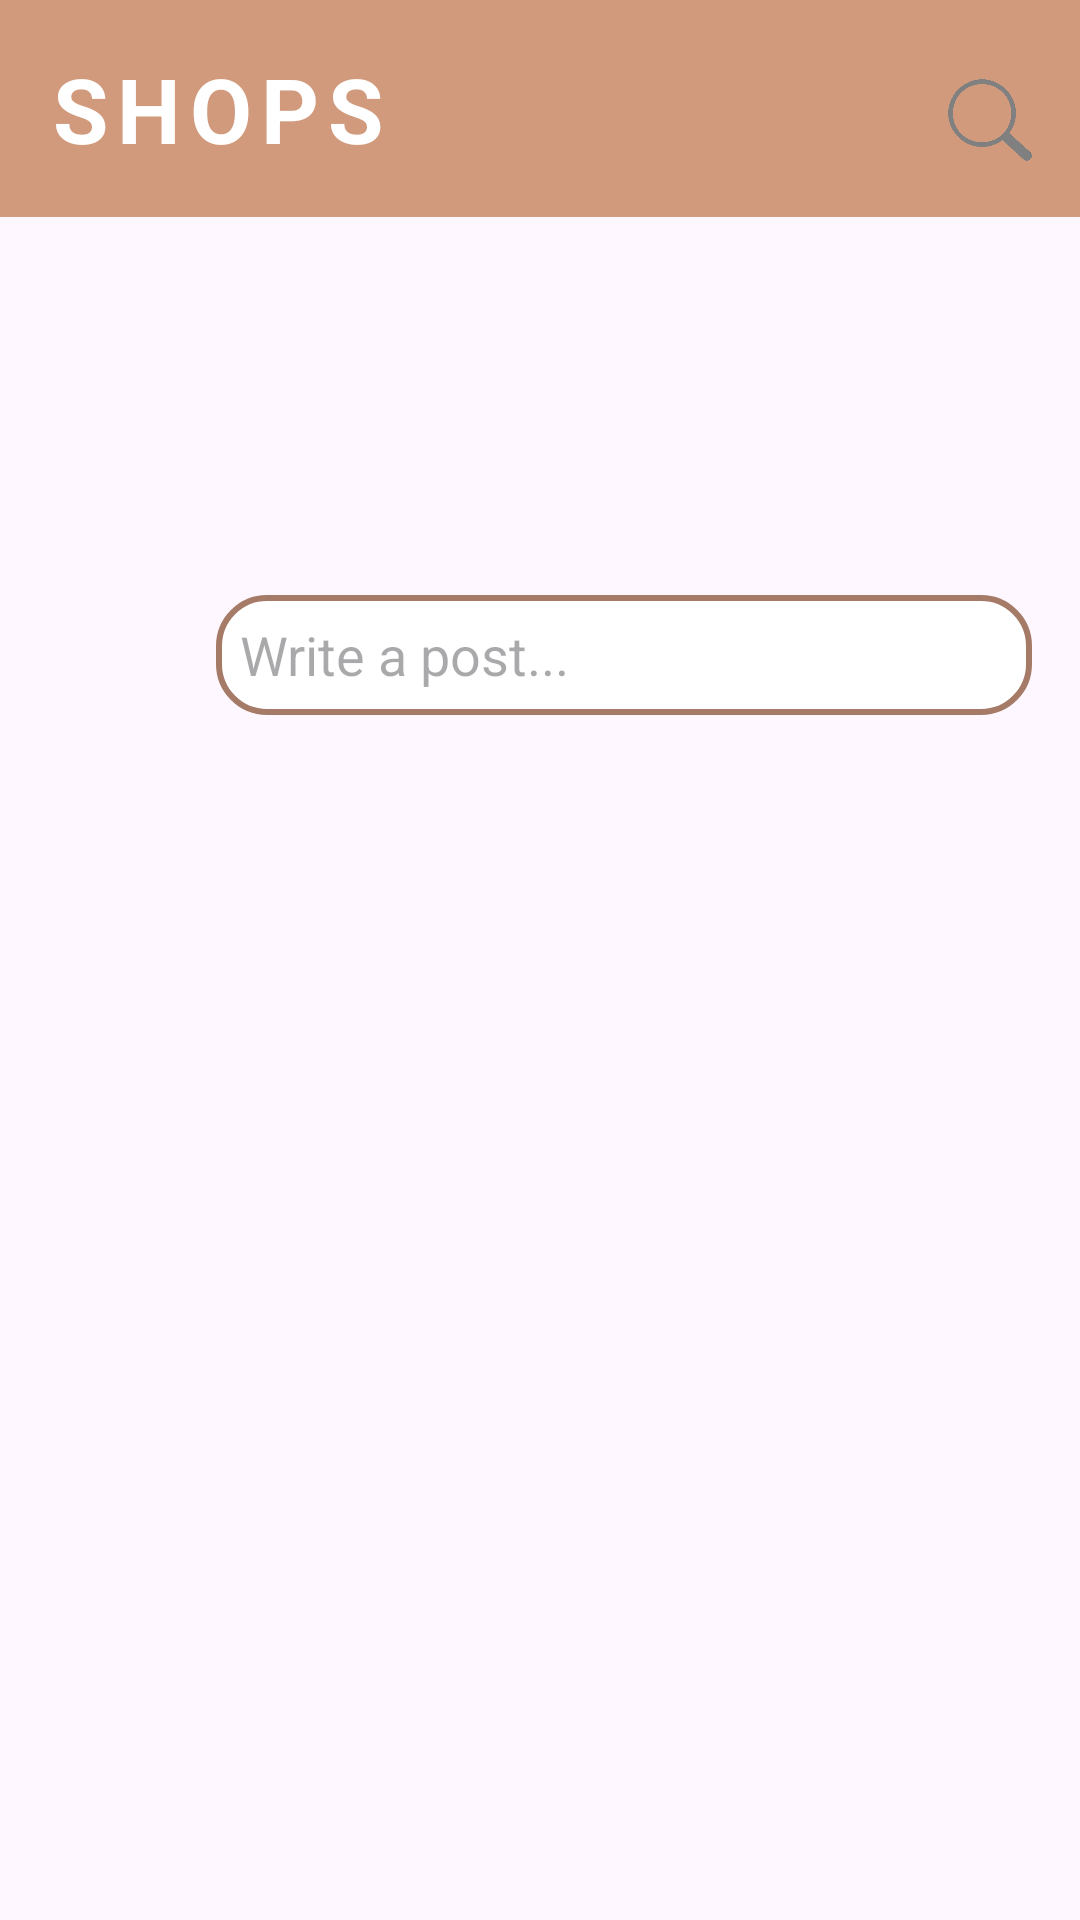

Screen size 1080 × 1920. Icon name, then its box in pixels as (x1, y1, x2, y2):
search: (948, 79, 1032, 161)
